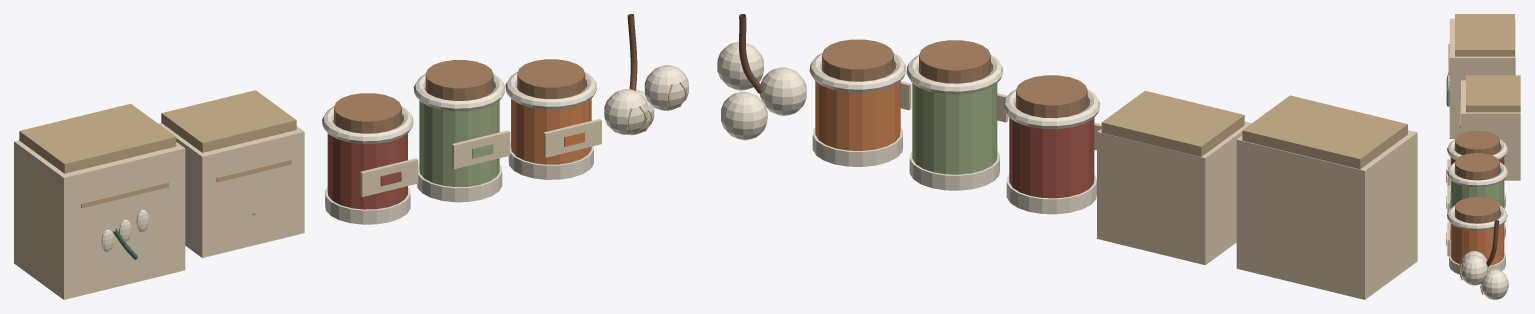
File: park_kitchen_pantry_staples.glb
3 views of the same model, side by side, from view 1: azimuth 30°, elevation 25°; view 2: azimuth 150°, elevation 25°; view 3: azimuth 270°, elevation 25° (orthographic). The views are drawn at different scales.
Visible parts, largest first — view 1: rice_bag__rice_filled_body, flour_bag__flour_filled_body, rice_bag__rice_folded_top, flour_bag__flour_folded_top, labelled_spice_jar_1__labelled_spice_visible_contents, labelled_spice_jar_0__labelled_spice_visible_contents, labelled_spice_jar_2__labelled_spice_visible_contents, labelled_spice_jar_1__labelled_spice_cork_stop, labelled_spice_jar_0__labelled_spice_cork_stop, labelled_spice_jar_2__labelled_spice_cork_stop, braided_garlic_bulb_0, braided_garlic_bulb_1 (+12 smaller); view 2: rice_bag__rice_filled_body, flour_bag__flour_filled_body, rice_bag__rice_folded_top, labelled_spice_jar_1__labelled_spice_visible_contents, labelled_spice_jar_0__labelled_spice_visible_contents, flour_bag__flour_folded_top, labelled_spice_jar_2__labelled_spice_visible_contents, labelled_spice_jar_1__labelled_spice_cork_stop, labelled_spice_jar_0__labelled_spice_cork_stop, labelled_spice_jar_2__labelled_spice_cork_stop, braided_garlic_bulb_2, braided_garlic_bulb_0 (+8 smaller); view 3: rice_bag__rice_folded_top, rice_bag__rice_filled_body, flour_bag__flour_filled_body, flour_bag__flour_folded_top, labelled_spice_jar_2__labelled_spice_visible_contents, labelled_spice_jar_1__labelled_spice_cork_stop, labelled_spice_jar_2__labelled_spice_cork_stop, labelled_spice_jar_0__labelled_spice_cork_stop, labelled_spice_jar_1__labelled_spice_visible_contents, braided_garlic_bulb_1, braided_garlic_bulb_2, labelled_spice_jar_1__labelled_spice_rolled_glass_lip (+10 smaller).
Boxes of the visible parts, x1,y1,x2,y2 form: rice_bag__rice_filled_body: [14, 140, 185, 299]; flour_bag__flour_filled_body: [158, 123, 304, 257]; rice_bag__rice_folded_top: [19, 103, 176, 173]; flour_bag__flour_folded_top: [161, 90, 296, 152]; labelled_spice_jar_1__labelled_spice_visible_contents: [419, 87, 499, 186]; labelled_spice_jar_0__labelled_spice_visible_contents: [327, 119, 407, 209]; labelled_spice_jar_2__labelled_spice_visible_contents: [511, 85, 591, 164]; labelled_spice_jar_1__labelled_spice_cork_stop: [425, 60, 493, 100]; labelled_spice_jar_0__labelled_spice_cork_stop: [334, 93, 401, 133]; labelled_spice_jar_2__labelled_spice_cork_stop: [517, 59, 585, 99]; braided_garlic_bulb_0: [604, 89, 648, 134]; braided_garlic_bulb_1: [644, 65, 688, 110]; rice_bag__rice_filled_body: [1236, 130, 1417, 299]; flour_bag__flour_filled_body: [1097, 121, 1251, 265]; rice_bag__rice_folded_top: [1242, 95, 1407, 169]; labelled_spice_jar_1__labelled_spice_visible_contents: [912, 68, 997, 174]; labelled_spice_jar_0__labelled_spice_visible_contents: [1009, 103, 1094, 198]; flour_bag__flour_folded_top: [1101, 90, 1244, 156]; labelled_spice_jar_2__labelled_spice_visible_contents: [815, 67, 900, 150]; labelled_spice_jar_1__labelled_spice_cork_stop: [919, 40, 990, 83]; labelled_spice_jar_0__labelled_spice_cork_stop: [1016, 75, 1087, 117]; labelled_spice_jar_2__labelled_spice_cork_stop: [822, 39, 893, 81]; braided_garlic_bulb_2: [721, 91, 767, 140]; braided_garlic_bulb_0: [760, 67, 806, 115]; rice_bag__rice_folded_top: [1455, 14, 1514, 56]; rice_bag__rice_filled_body: [1449, 18, 1515, 138]; flour_bag__flour_filled_body: [1461, 80, 1520, 180]; flour_bag__flour_folded_top: [1466, 75, 1520, 112]; labelled_spice_jar_2__labelled_spice_visible_contents: [1450, 214, 1504, 265]; labelled_spice_jar_1__labelled_spice_cork_stop: [1455, 153, 1499, 180]; labelled_spice_jar_2__labelled_spice_cork_stop: [1455, 197, 1499, 223]; labelled_spice_jar_0__labelled_spice_cork_stop: [1455, 130, 1499, 155]; labelled_spice_jar_1__labelled_spice_visible_contents: [1450, 171, 1504, 208]; braided_garlic_bulb_1: [1460, 254, 1487, 285]; braided_garlic_bulb_2: [1481, 269, 1508, 299]; labelled_spice_jar_1__labelled_spice_rolled_glass_lip: [1447, 162, 1507, 187].
Bounding box in the file's own units: 2.38 × 0.4862 × 0.361.
